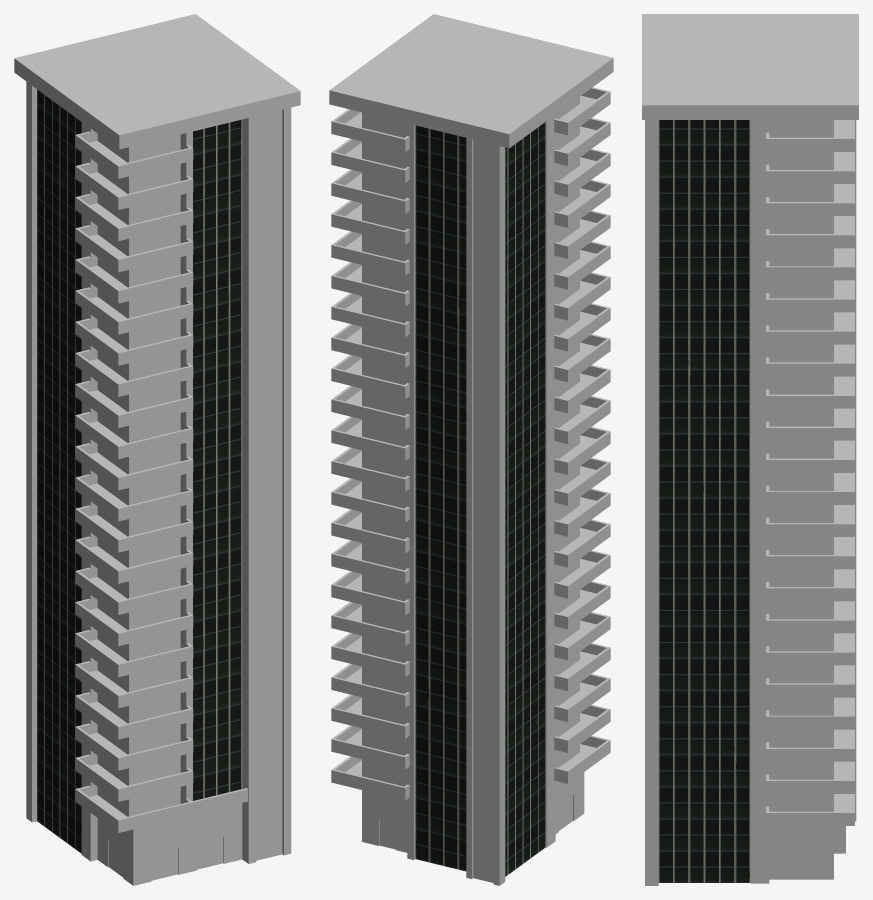
The picture shows the model from 3 angles, left to right: view 1: azimuth 30°, elevation 25°; view 2: azimuth 150°, elevation 25°; view 3: azimuth 270°, elevation 25°; orthographic projection. The views are drawn at different scales.
Visible parts, largest first — view 1: BC-P01; view 2: BC-P01; view 3: BC-P01.
Boxes of the visible parts, x1,y1,x2,y2 form: BC-P01: [14, 14, 300, 885]; BC-P01: [329, 14, 613, 885]; BC-P01: [642, 14, 858, 885].
Size of what is drawn, in the model's own units: 19 by 76.21 by 19.08.
